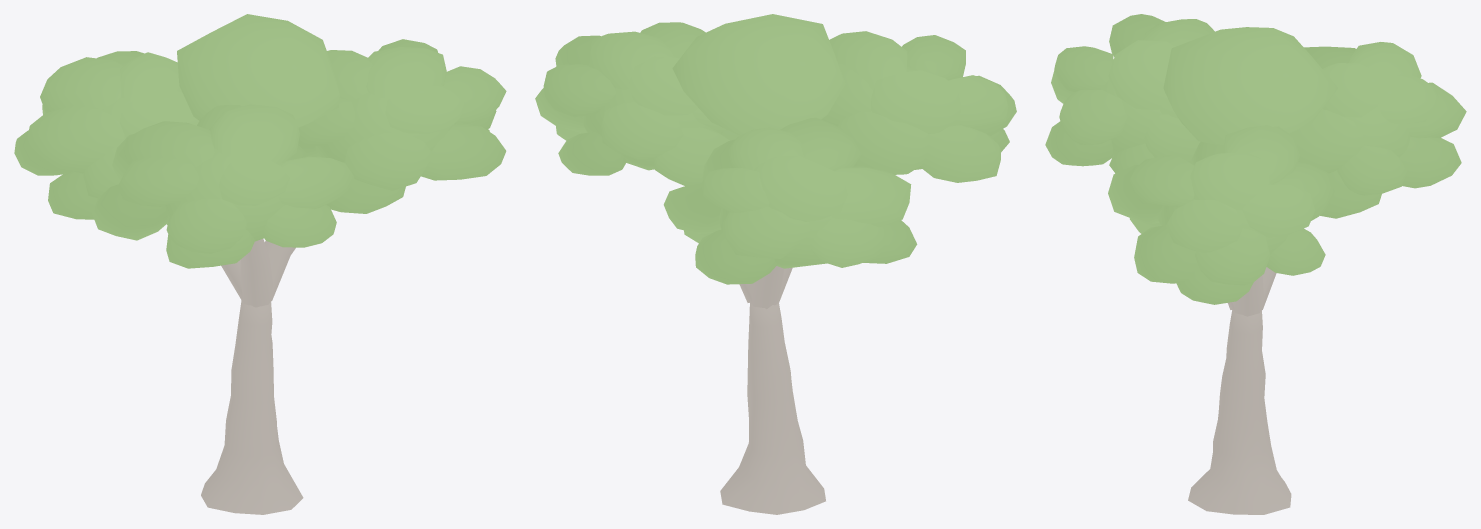
Rendered from Blender_LakeCottonwood_3.glb.
The picture shows the model from 3 angles, left to right: view 1: azimuth 30°, elevation 25°; view 2: azimuth 150°, elevation 25°; view 3: azimuth 270°, elevation 25°; orthographic projection.
Parts seen in each view (by area): view 1: Blender_LakeCottonwood_3; view 2: Blender_LakeCottonwood_3; view 3: Blender_LakeCottonwood_3.
Part boxes in pixels (x1,y1,x2,y2): Blender_LakeCottonwood_3: (14,14,506,514); Blender_LakeCottonwood_3: (535,14,1016,514); Blender_LakeCottonwood_3: (1045,14,1466,514).
Size of the model in its own units: 23.17 by 24.1 by 20.13.
